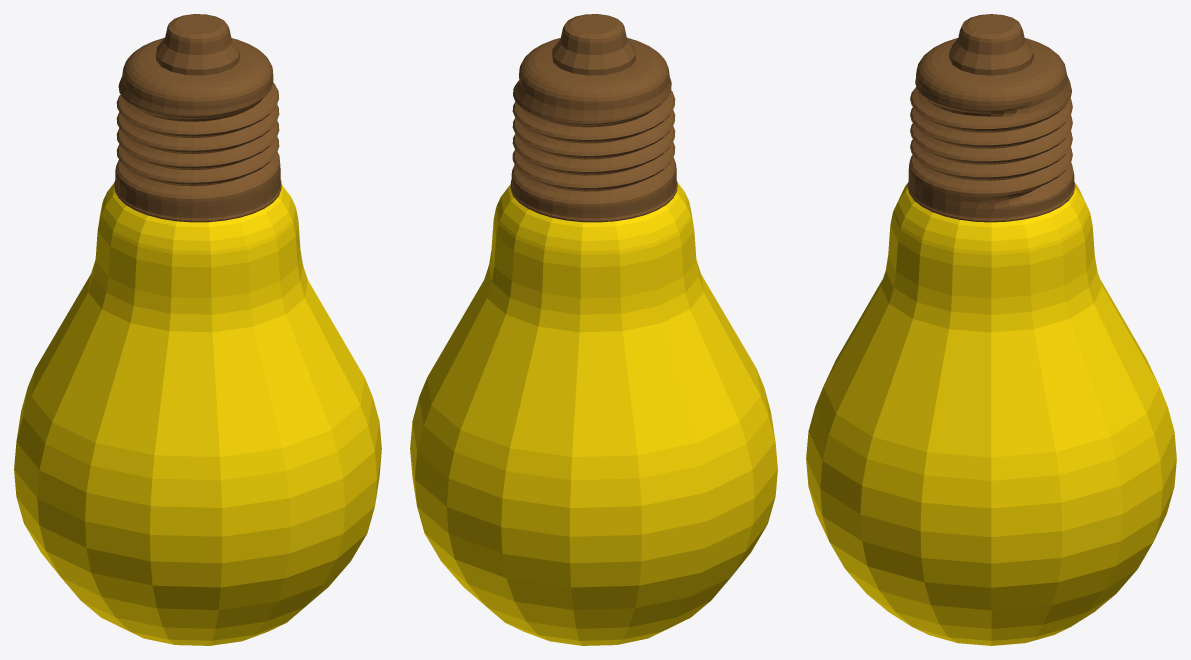
Rendered from light.glb.
The picture shows the model from 3 angles, left to right: view 1: azimuth 30°, elevation 25°; view 2: azimuth 150°, elevation 25°; view 3: azimuth 270°, elevation 25°; orthographic projection.
Visible parts, largest first — view 1: Ampoule; view 2: Ampoule; view 3: Ampoule.
Part boxes in pixels (left/top/right/bottom): Ampoule: left=14, top=14, right=381, bottom=645; Ampoule: left=410, top=14, right=777, bottom=645; Ampoule: left=806, top=14, right=1176, bottom=645.
Bounding box in the file's own units: 5.01 × 9.02 × 5.01.
